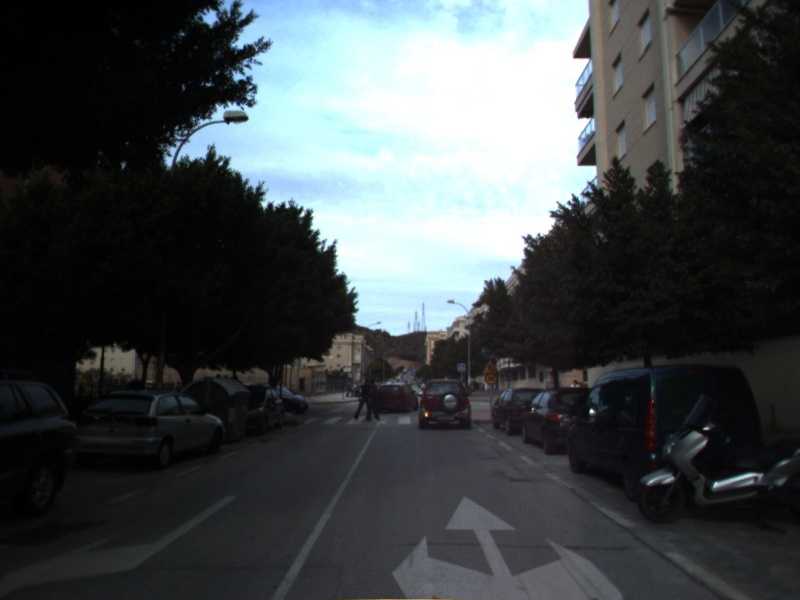STRAIGHT_LEFT_RIGHT: (389, 493, 624, 600)
